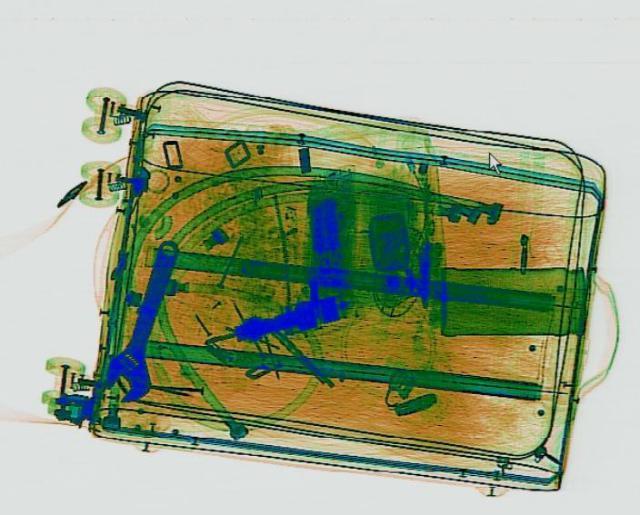Wrench: (96, 236, 192, 403)
